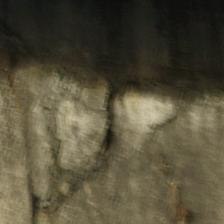Crack: (7, 62, 114, 133), (22, 22, 152, 68)
